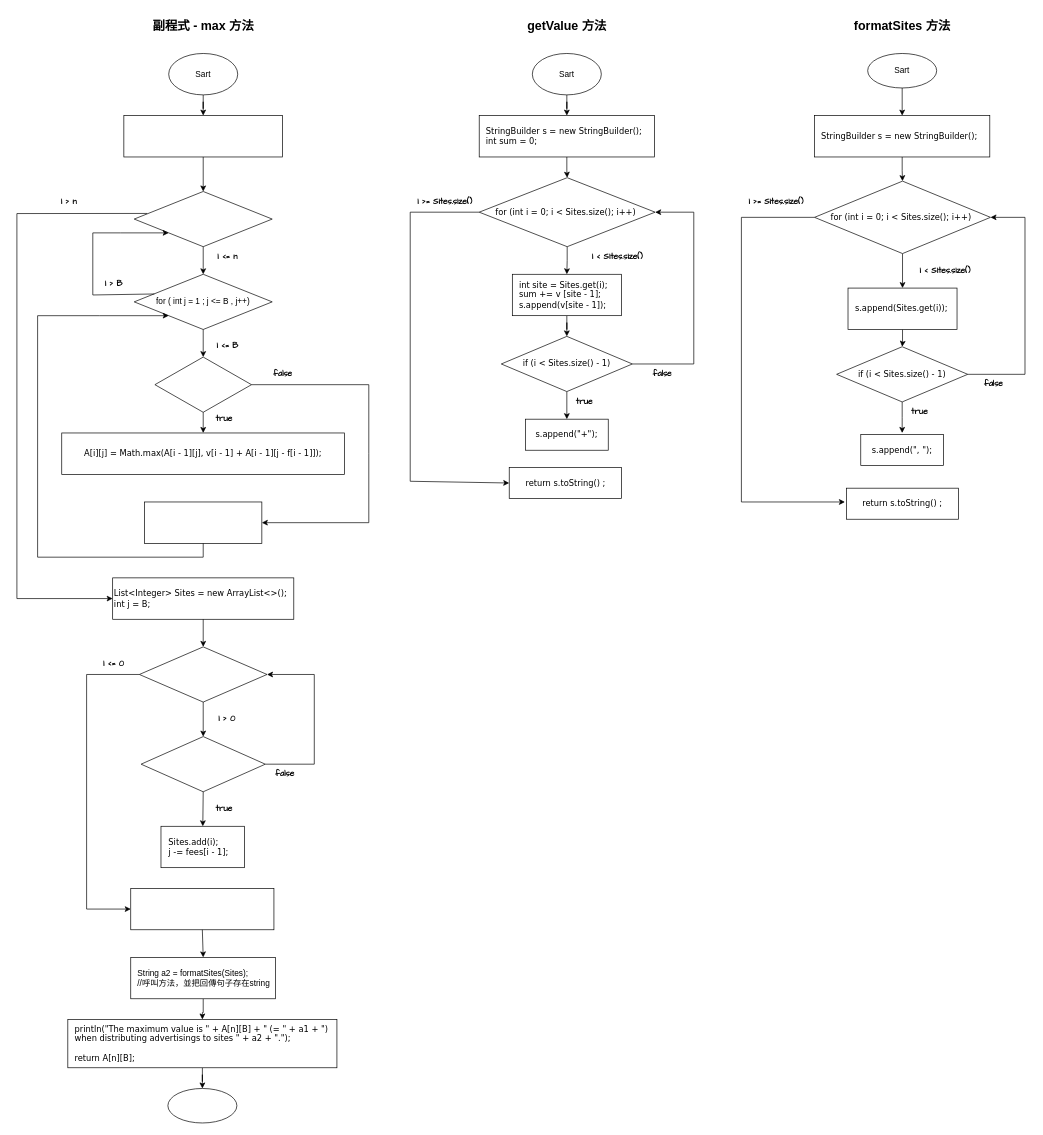
Image size: 1043x1135. Some labels were removed from this diagram. The shapes that lost their labels are listed below. From the top down, each one's box as (x1, y1, x2, y2) in pixels, then its label:
(123, 115, 283, 157): int A[][] = new int [n+1][B+1]; //開一個陣列，放計算最大價值的結果
(134, 191, 272, 247): for ( int i = 1 ; i <= n , i++)
(154, 356, 252, 412): if ( f [i-1] <= j )
(144, 501, 262, 543): A[i][j] = A[i - 1][j];
(139, 646, 267, 702): for (int i = n; i > 0; i--)
(140, 736, 265, 792): if (A[i][j] != A[i - 1][j])
(130, 888, 274, 930): String a1 = getValue(v, Sites); //呼叫方法，並把回傳句子存在string
(167, 1088, 237, 1123): END
